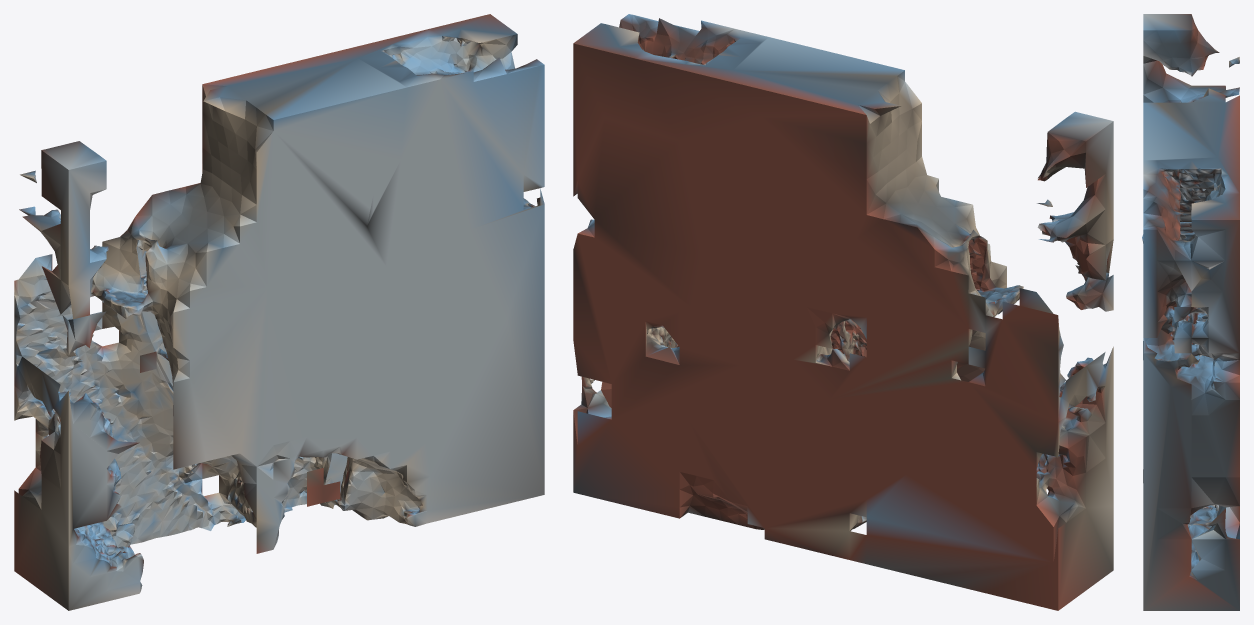
3 views of the same model, side by side, from view 1: azimuth 30°, elevation 25°; view 2: azimuth 150°, elevation 25°; view 3: azimuth 270°, elevation 25° (orthographic). The views are drawn at different scales.
Visible parts, largest first — view 1: node_0; view 2: node_0; view 3: node_0.
Part boxes in pixels (box(x1,y1,x2,y2)): node_0: box(14, 14, 544, 610); node_0: box(573, 14, 1113, 610); node_0: box(1142, 14, 1239, 610).
Bounding box in the file's own units: 23.24 × 20.62 × 4.66.
